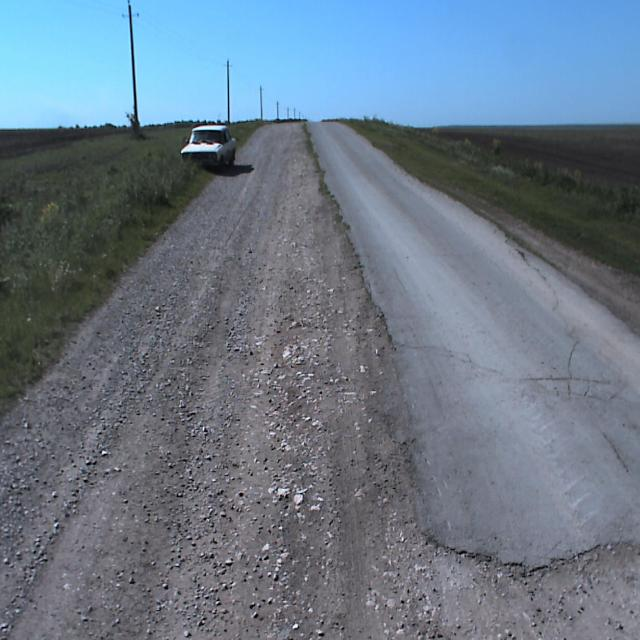road: (305, 121, 639, 565)
